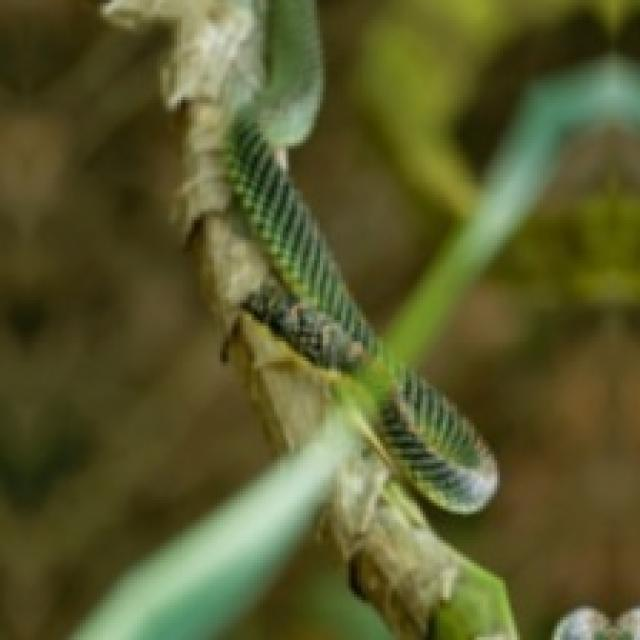paradise tree snake: (229, 120, 497, 511)
